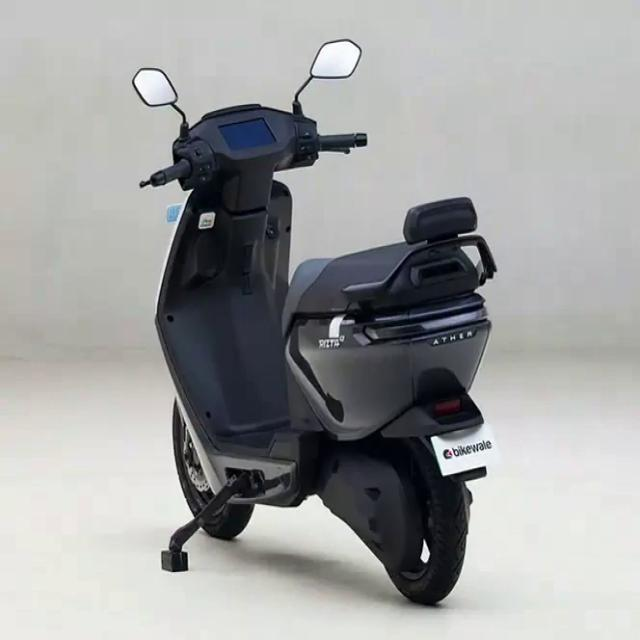objects: (106, 55, 494, 610)
